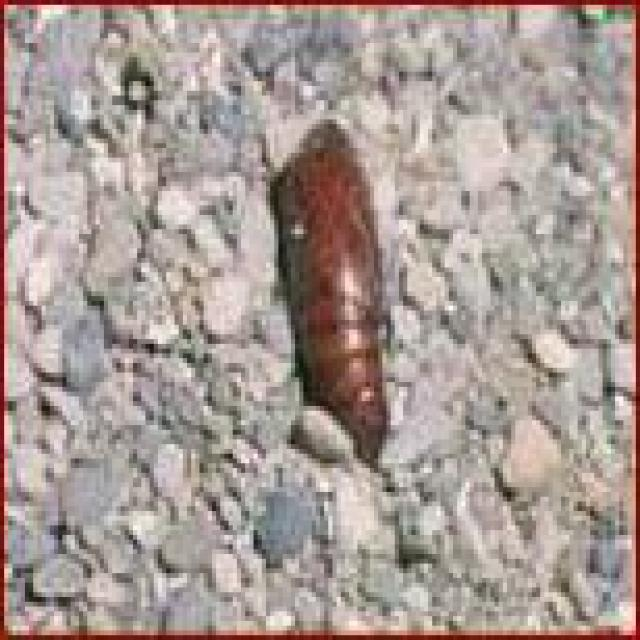armyworm: (272, 105, 415, 454)
